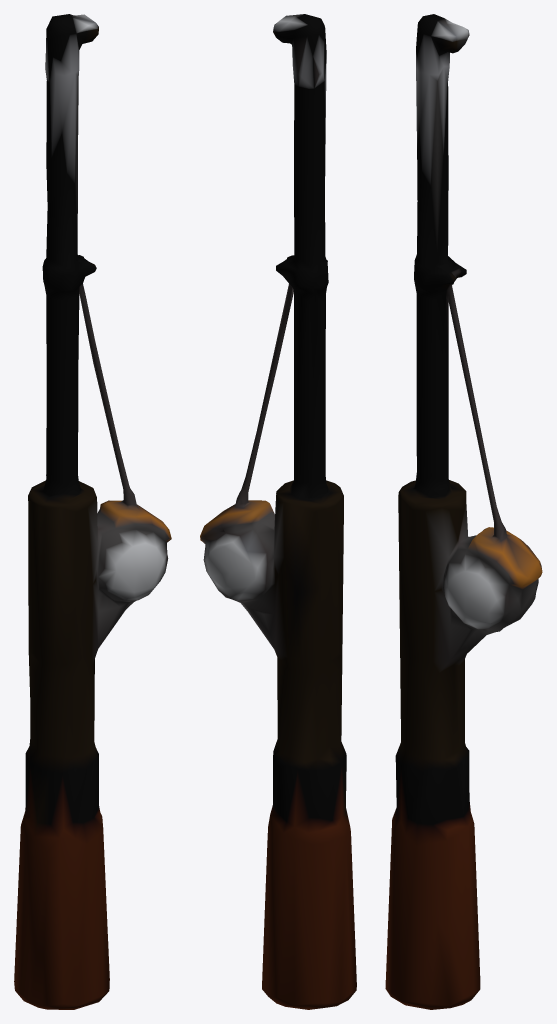
File: gen3d-fishing-lod1.glb
3 views of the same model, side by side, from view 1: azimuth 30°, elevation 25°; view 2: azimuth 150°, elevation 25°; view 3: azimuth 330°, elevation 25° (orthographic).
Parts seen in each view (by area): view 1: part_0; view 2: part_0; view 3: part_0.
Boxes of the visible parts, x1,y1,x2,y2 form: part_0: [14, 14, 171, 1009]; part_0: [200, 14, 356, 1009]; part_0: [385, 14, 542, 1009].
Bounding box in the file's own units: 0.1546 × 0.9993 × 0.0885.
